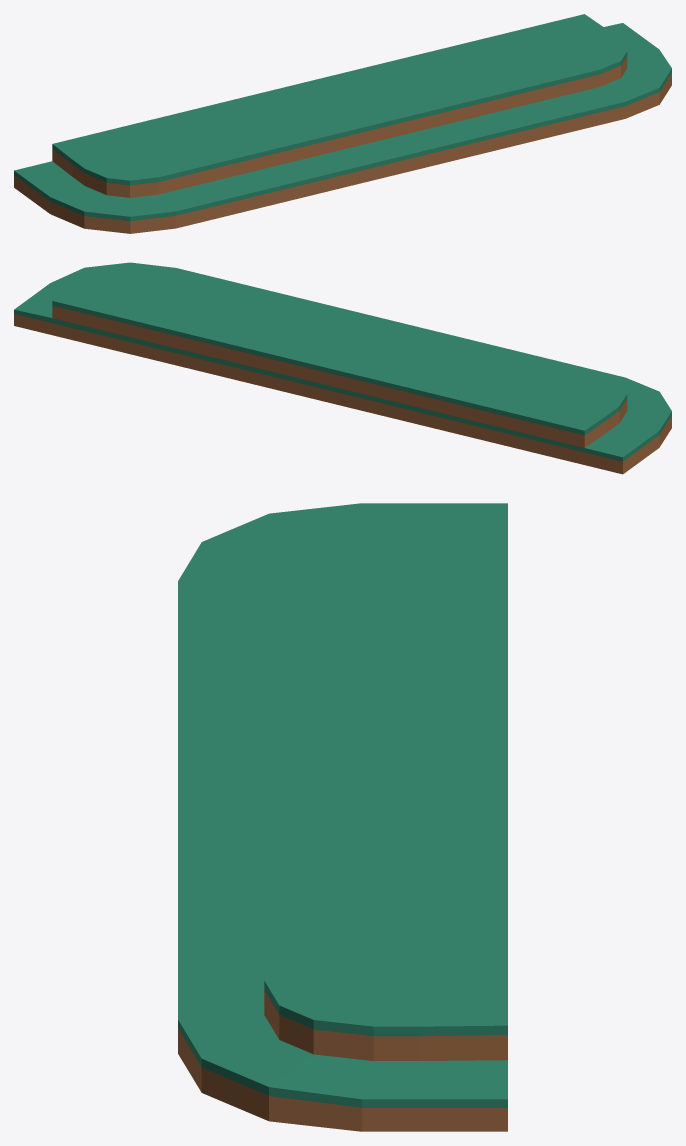
The model's file is scene_mettingStage.fbx.
3 renders of one model, top to bottom at view 1: azimuth 30°, elevation 25°; view 2: azimuth 150°, elevation 25°; view 3: azimuth 270°, elevation 25°, orthographic. The views are drawn at different scales.
Visible parts, largest first — view 1: mettingStage; view 2: mettingStage; view 3: mettingStage.
Part boxes in pixels (bbox=[...]): mettingStage: bbox=[14, 14, 671, 233]; mettingStage: bbox=[14, 262, 671, 474]; mettingStage: bbox=[178, 503, 507, 1131].
Size of the model in its own units: 1860 by 100 by 436.
